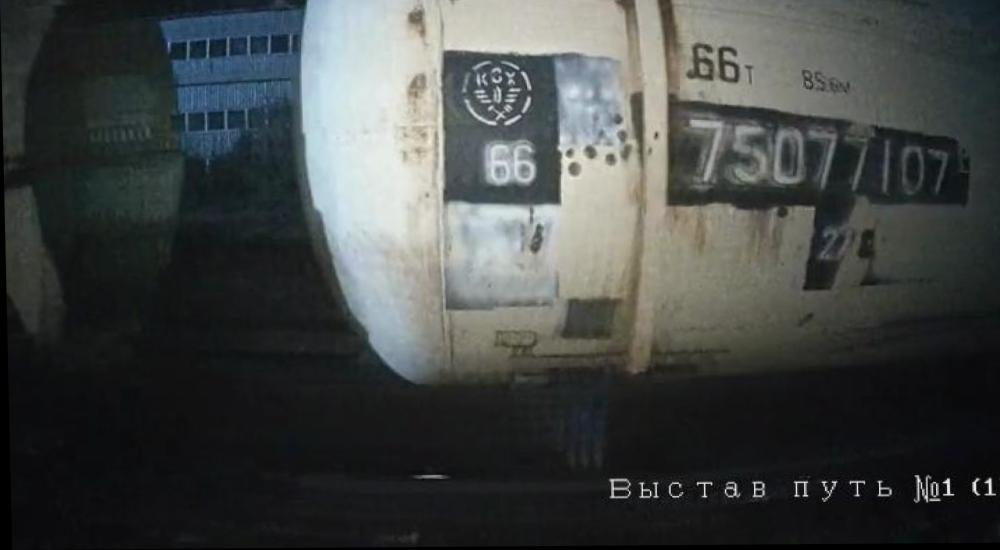Wagon-number: (686, 112, 951, 205)
